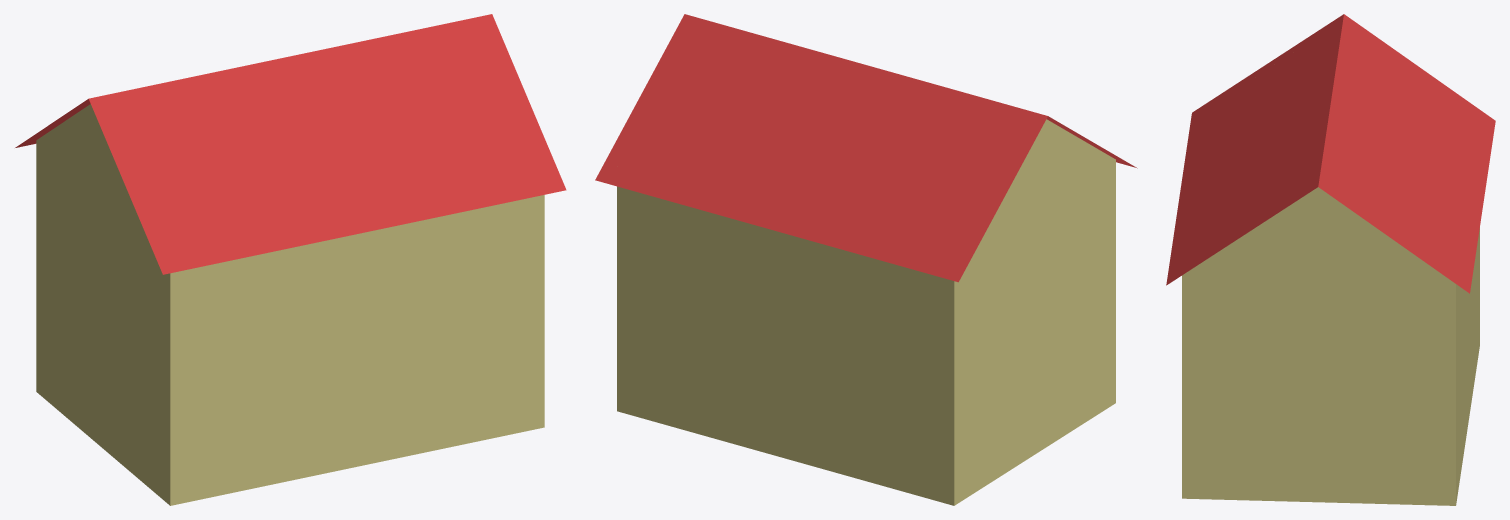
3 views of the same model, side by side, from view 1: azimuth 30°, elevation 25°; view 2: azimuth 150°, elevation 25°; view 3: azimuth 270°, elevation 25° (orthographic). The views are drawn at different scales.
Bounding box in the file's own units: 14.42 × 11.09 × 11.94.
